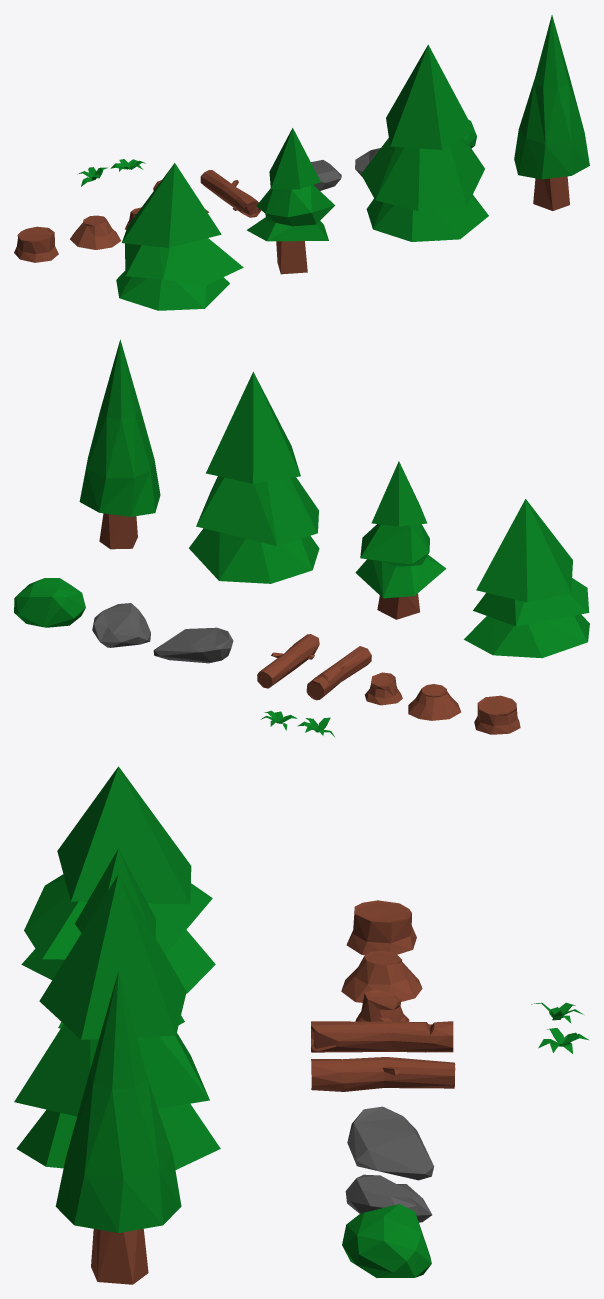
Rendered from naturekit.fbx.
3 renders of one model, top to bottom at view 1: azimuth 30°, elevation 25°; view 2: azimuth 150°, elevation 25°; view 3: azimuth 270°, elevation 25°, orthographic. The views are drawn at different scales.
Parts seen in each view (by area): view 1: Tree_02, Tree_04, Tree_01, Tree_03, Stump_03, Log_01, Stump_02, Rock_02; view 2: Tree_02, Tree_04, Tree_01, Tree_03, Bush, Rock_02, Rock_01, Stump_03, Log_01, Log_02, Stump_02, Stump_01; view 3: Tree_02, Tree_01, Tree_04, Bush, Log_02, Log_01, Rock_02, Stump_03, Stump_02, Rock_01, Tree_03, Stump_01.
Boxes of the visible parts, bbox=[...] form: Tree_02: bbox=[361, 44, 488, 241]; Tree_04: bbox=[116, 163, 243, 310]; Tree_01: bbox=[514, 15, 589, 210]; Tree_03: bbox=[246, 128, 334, 274]; Stump_03: bbox=[14, 226, 58, 262]; Log_01: bbox=[200, 170, 260, 217]; Stump_02: bbox=[70, 215, 120, 249]; Rock_02: bbox=[311, 160, 341, 190]; Tree_02: bbox=[189, 371, 319, 583]; Tree_04: bbox=[464, 499, 589, 658]; Tree_01: bbox=[79, 339, 160, 549]; Tree_03: bbox=[355, 461, 446, 619]; Bush: bbox=[14, 578, 85, 627]; Rock_02: bbox=[153, 627, 233, 663]; Rock_01: bbox=[92, 603, 150, 647]; Stump_03: bbox=[474, 695, 520, 734]; Log_01: bbox=[257, 634, 319, 688]; Log_02: bbox=[306, 646, 371, 700]; Stump_02: bbox=[408, 684, 461, 720]; Stump_01: bbox=[365, 672, 402, 705]; Tree_02: bbox=[14, 874, 220, 1169]; Tree_01: bbox=[55, 971, 181, 1284]; Tree_04: bbox=[21, 766, 215, 993]; Bush: bbox=[342, 1204, 431, 1277]; Log_02: bbox=[311, 1018, 453, 1052]; Log_01: bbox=[311, 1057, 455, 1091]; Rock_02: bbox=[347, 1106, 434, 1180]; Stump_03: bbox=[346, 900, 416, 955]; Stump_02: bbox=[341, 951, 422, 1002]; Rock_01: bbox=[345, 1174, 432, 1222]; Tree_03: bbox=[58, 848, 184, 1028]; Stump_01: bbox=[355, 990, 409, 1021].
Size of the model in its own units: 8252 by 3213 by 5285.
